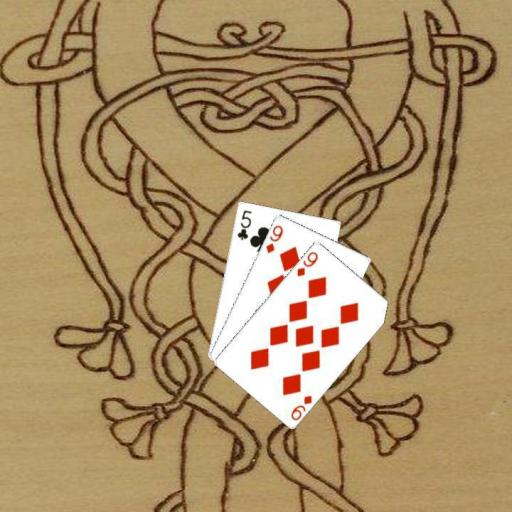card-corner: (287, 392, 314, 422), (294, 248, 319, 278), (262, 222, 284, 254), (234, 206, 252, 241)
